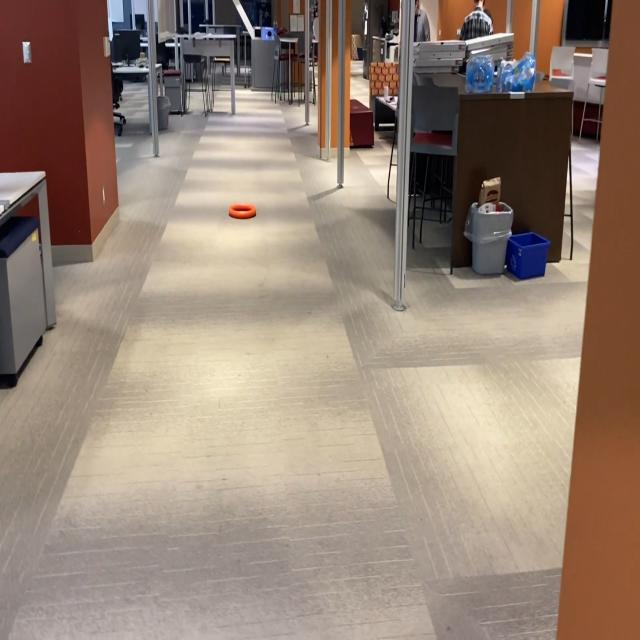note: (228, 203, 258, 220)
